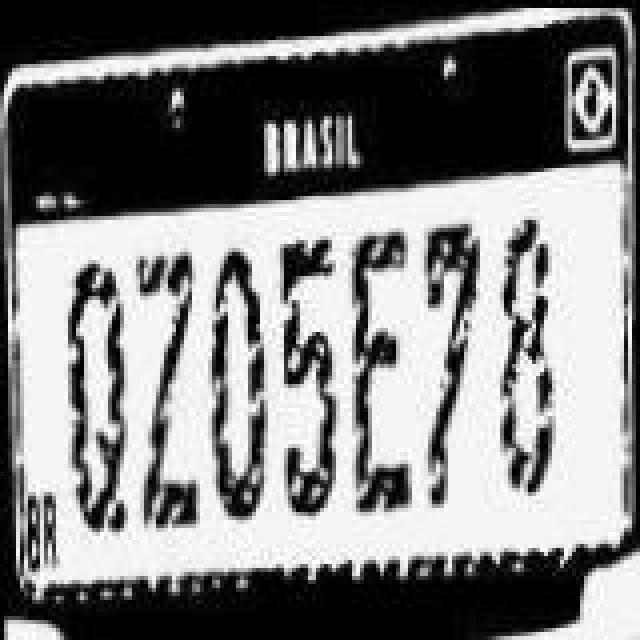5: (276, 234, 340, 526)
7: (422, 218, 490, 510)
8: (494, 210, 562, 498)
E: (350, 224, 418, 516)
O: (208, 248, 276, 528)
Q: (62, 260, 134, 536)
Z: (132, 252, 208, 532)
